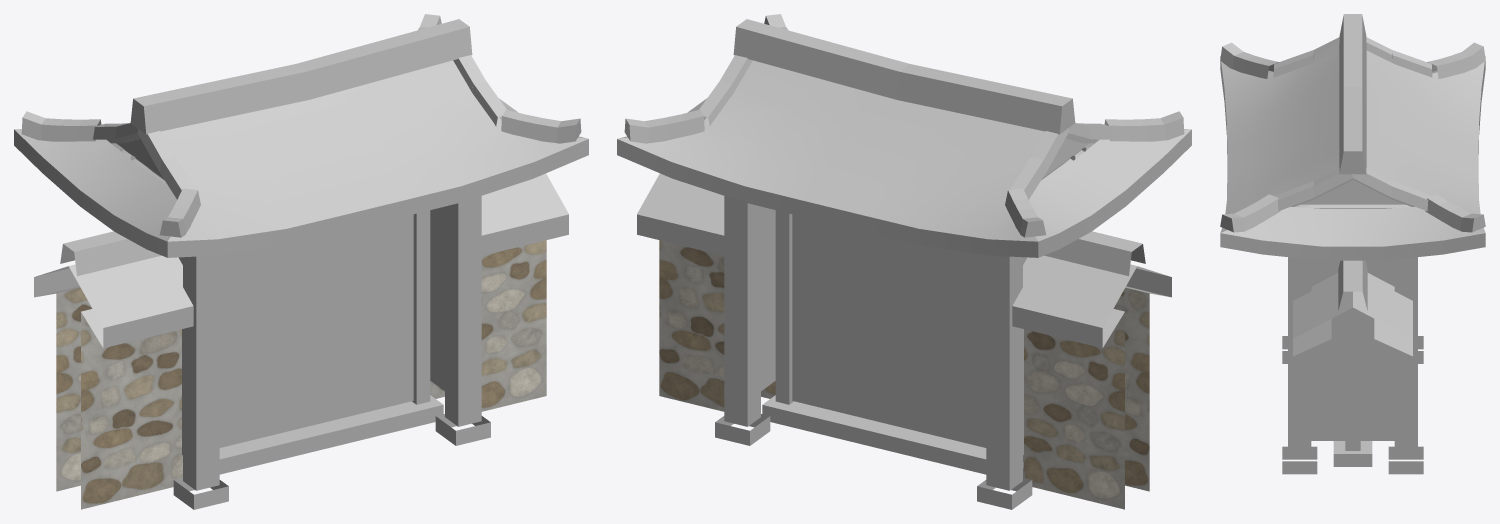
Rendered from Hanok_Gate_Giwa_01.fbx.
3 views of the same model, side by side, from view 1: azimuth 30°, elevation 25°; view 2: azimuth 150°, elevation 25°; view 3: azimuth 270°, elevation 25° (orthographic). The views are drawn at different scales.
Parts seen in each view (by area): view 1: Gate_Giwa_02; view 2: Gate_Giwa_02; view 3: Gate_Giwa_02.
Part boxes in pixels (x1=…): Gate_Giwa_02: x1=14, y1=14, x2=588, y2=509; Gate_Giwa_02: x1=617, y1=14, x2=1191, y2=509; Gate_Giwa_02: x1=1220, y1=14, x2=1485, y2=474.
Bounding box in the file's own units: 4.8 × 3.75 × 2.75.
